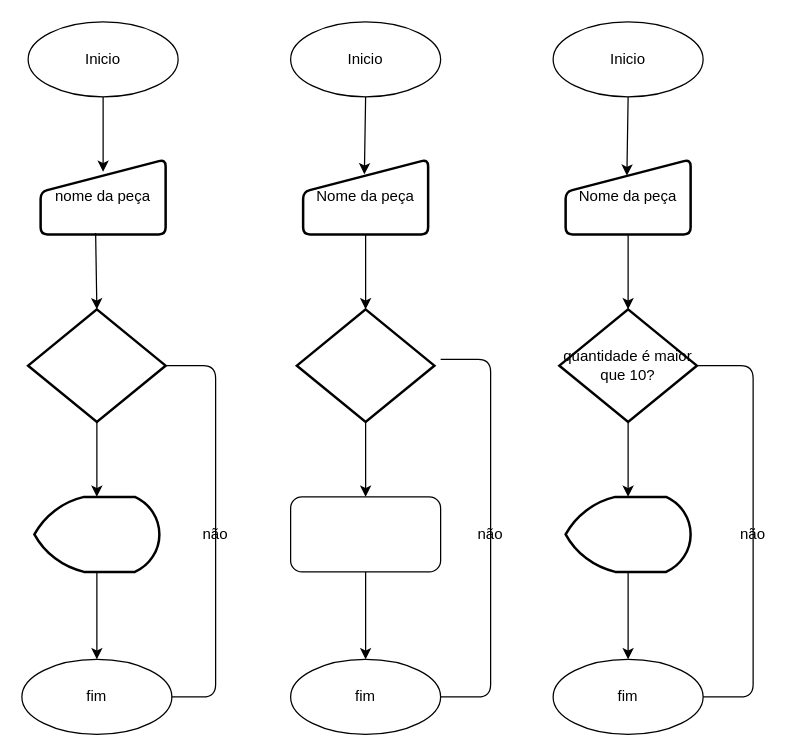
The diagram is 800 pixels wide and 756 high, and some of its shapes have lost their labels. The shapes that lost their labels are listed below. From the top down, each one's centre as x and y in pixels, then its label:
At point 96,365: "quantidade de caracteres é inferio a 3?".
At point 365,365: "peso é superior a 100grs".
At point 96,533: "msg de erro".
At point 365,534: "cadastrar".
At point 627,533: "capacidade insuficiente".
